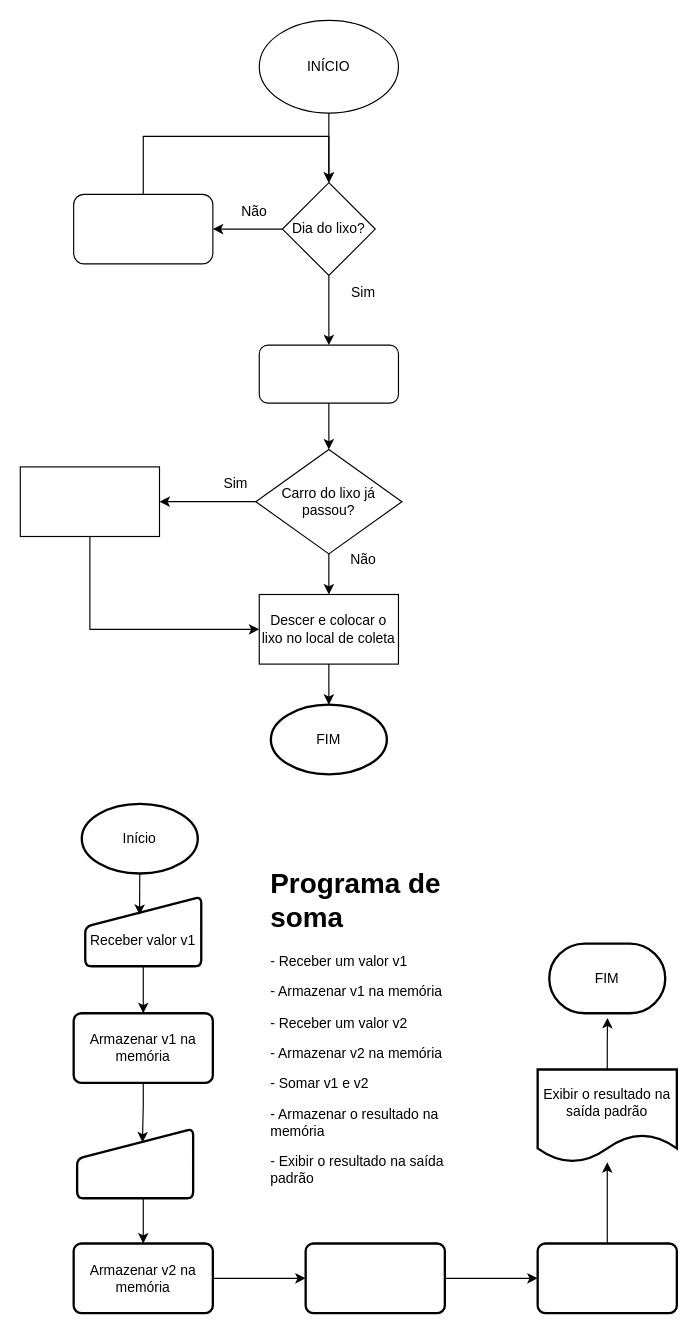
The diagram is 698 pixels wide and 1334 high, and some of its shapes have lost their labels. Each missing label, with the centre of its shape:
"Aguardar o dia do lixo" goes at pixel 142 228.
"Armazenar resultado da soma na memória" goes at pixel 606 1278.
"Deixar para o final do dia" goes at pixel 89 501.
"Juntar lixo da cozinha e do banheiro" goes at pixel 328 373.
"Receber valor v2" goes at pixel 134 1163.
"Somar v1 e v2" goes at pixel 374 1278.
